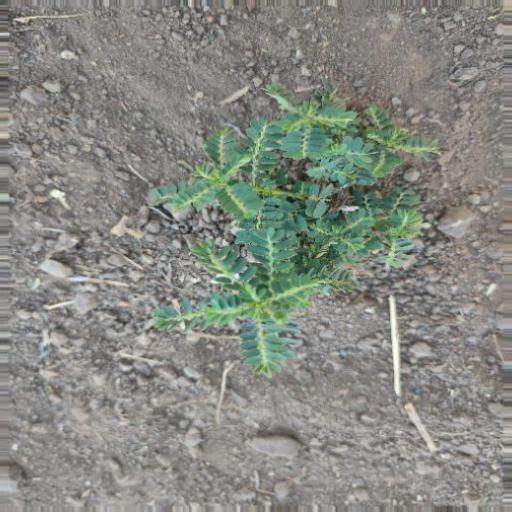weed: (162, 77, 454, 382)
